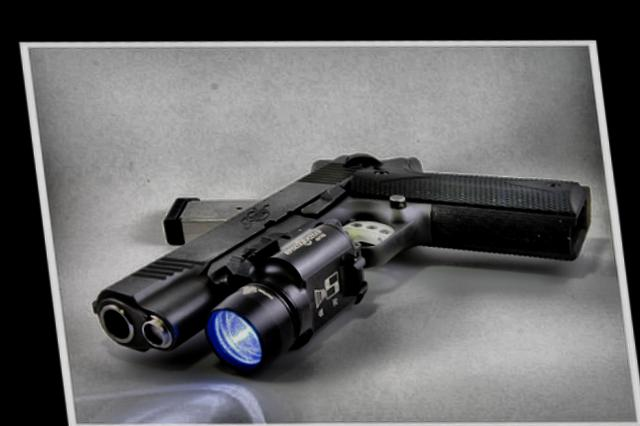pistol: (64, 114, 612, 402)
